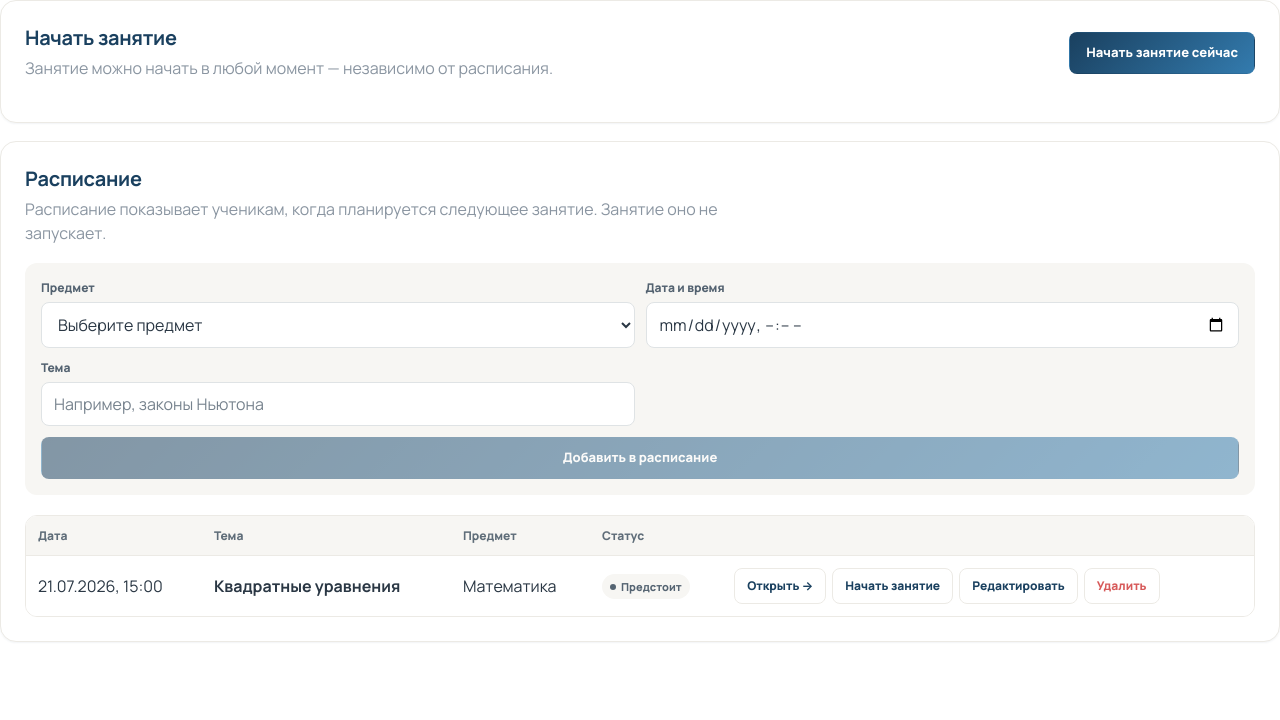
it: редактирование занятия открывает модалку и отправляет PATCH с новой темой и датой
Click the button "Редактировать".
click(1019, 586)  # box [959,568,1078,604]
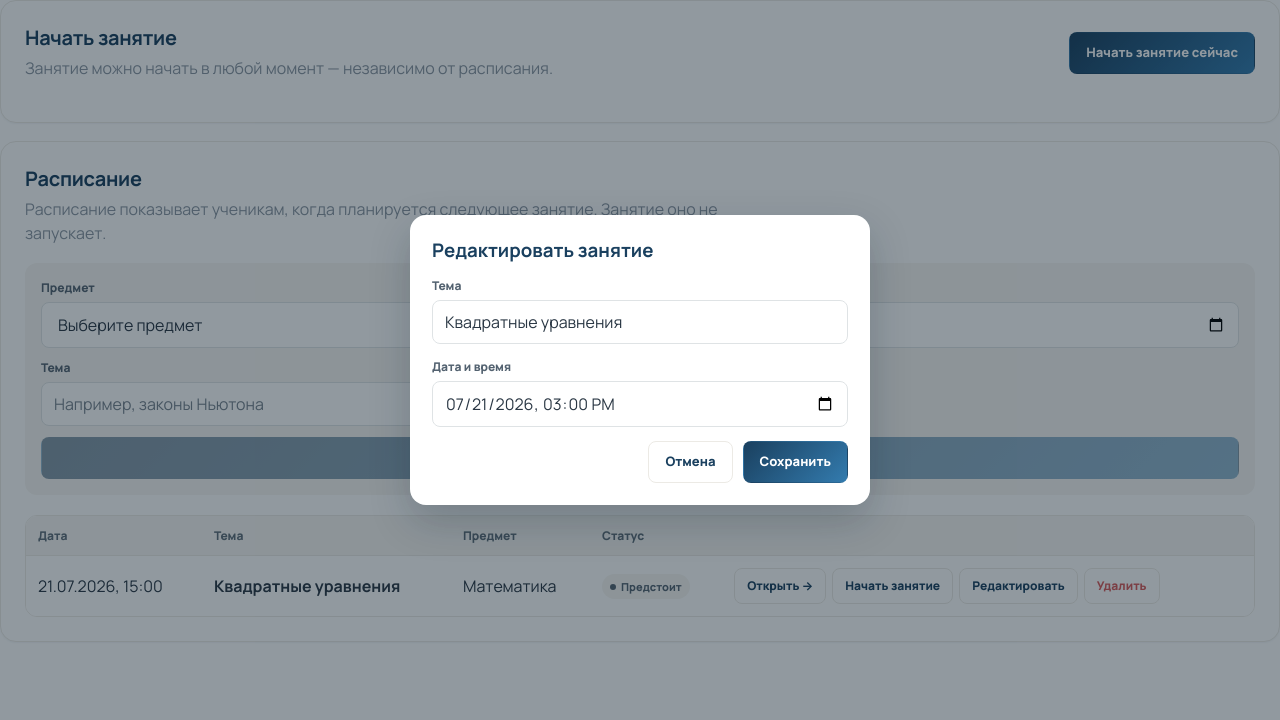
Replace the text in the field with placeholder "Например, законы Ньютона" with "Логарифмы" at x=640, y=322, box [432,300,848,344]
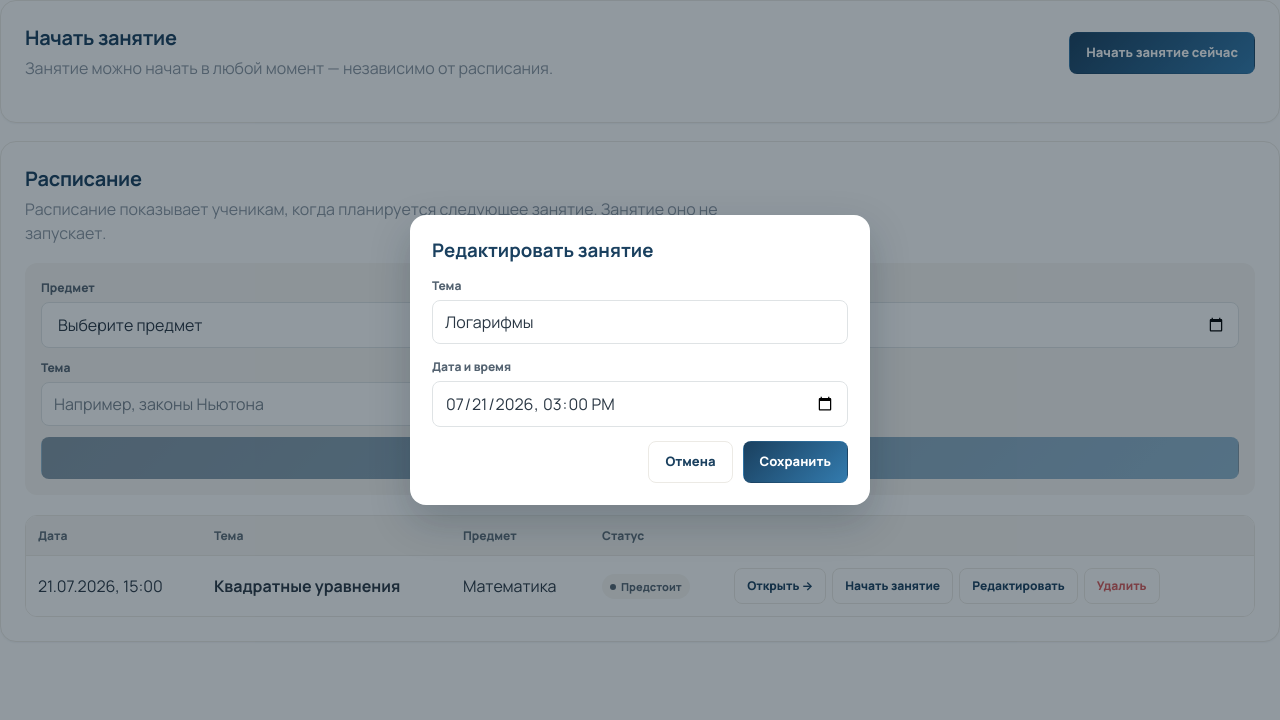
Click the button "Сохранить".
click(795, 462)  # box [742,441,848,483]
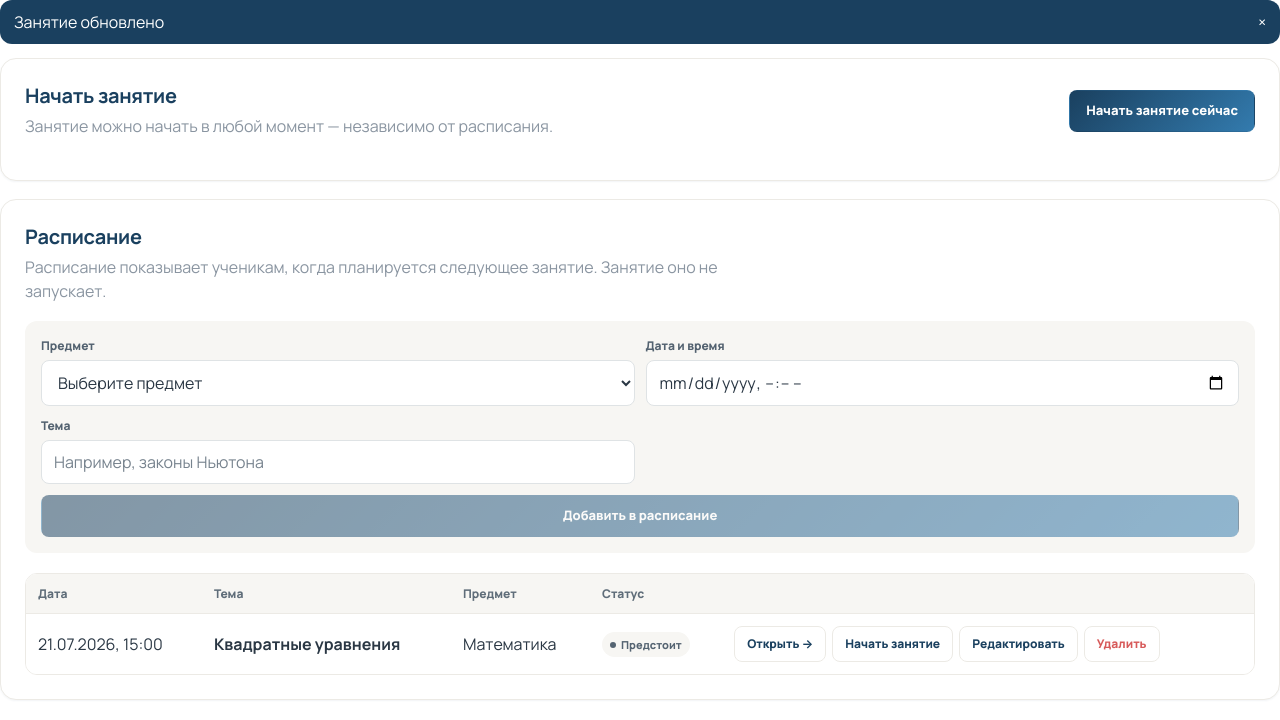
Expected: the heading "Редактировать занятие" is gone
